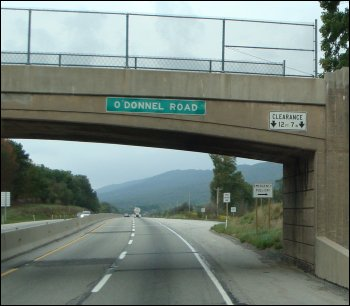bridge: (1, 60, 326, 165)
